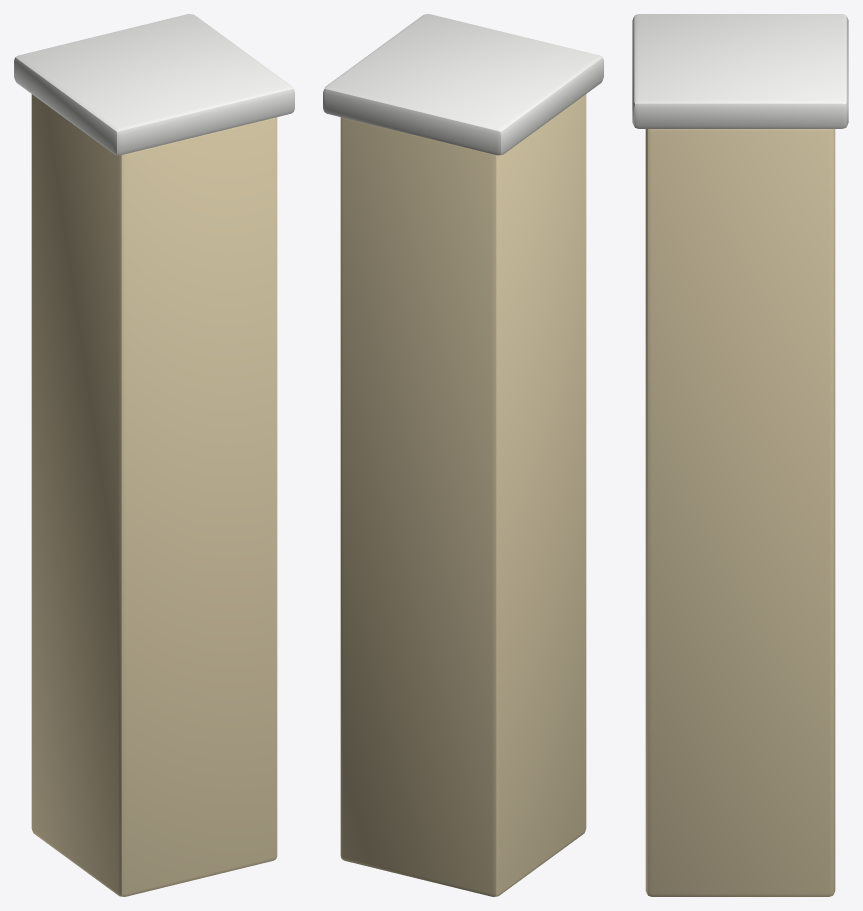
The model's file is cerca_mureta_grade_canto.glb.
The picture shows the model from 3 angles, left to right: view 1: azimuth 30°, elevation 25°; view 2: azimuth 150°, elevation 25°; view 3: azimuth 270°, elevation 25°; orthographic projection. The views are drawn at different scales.
Visible parts, largest first — view 1: cerca_mureta_grade_canto; view 2: cerca_mureta_grade_canto; view 3: cerca_mureta_grade_canto.
Boxes of the visible parts, x1,y1,x2,y2 form: cerca_mureta_grade_canto: (14, 14, 294, 896); cerca_mureta_grade_canto: (323, 14, 603, 896); cerca_mureta_grade_canto: (632, 14, 848, 896).
Size of the model in its own units: 0.41 by 1.68 by 0.41.
1 material, 1 textured.
